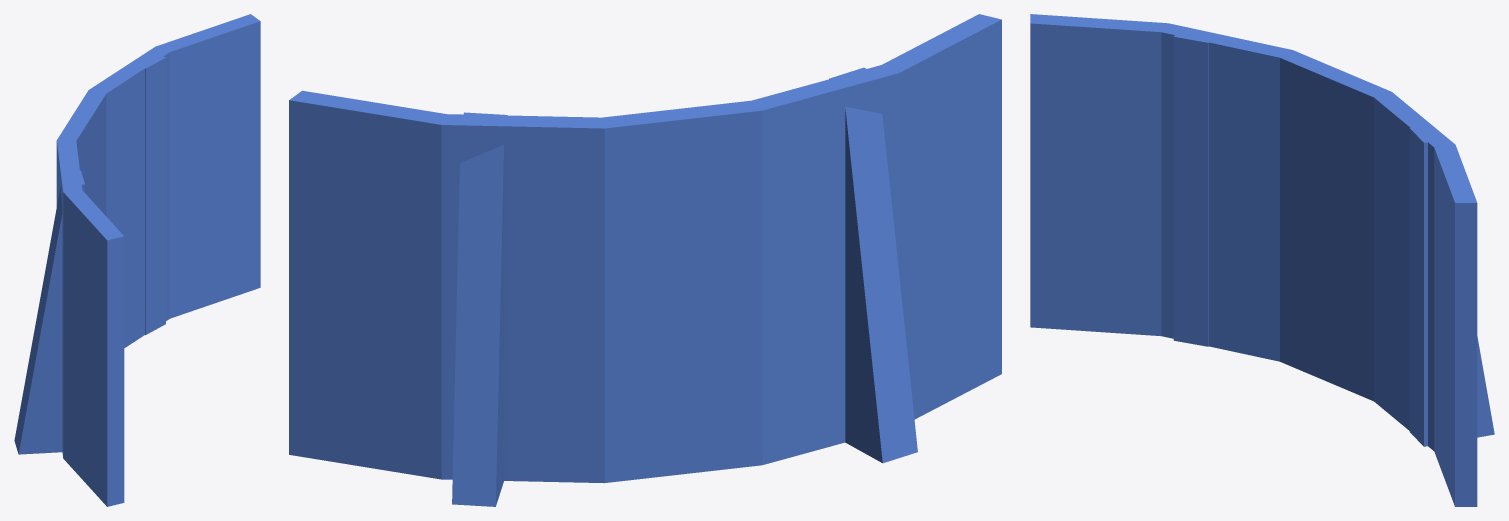
The model's file is WallPadded_Curve_Round_Outer_Collision.fbx.
The picture shows the model from 3 angles, left to right: view 1: azimuth 30°, elevation 25°; view 2: azimuth 150°, elevation 25°; view 3: azimuth 270°, elevation 25°; orthographic projection. The views are drawn at different scales.
Visible parts, largest first — view 1: WallPadded_Curve_Round_Outer_Collision; view 2: WallPadded_Curve_Round_Outer_Collision; view 3: WallPadded_Curve_Round_Outer_Collision.
Part boxes in pixels (bbox=[...]): WallPadded_Curve_Round_Outer_Collision: bbox=[14, 14, 260, 506]; WallPadded_Curve_Round_Outer_Collision: bbox=[289, 14, 1001, 506]; WallPadded_Curve_Round_Outer_Collision: bbox=[1030, 14, 1494, 506].
Bounding box in the file's own units: 415 × 300 × 416.
